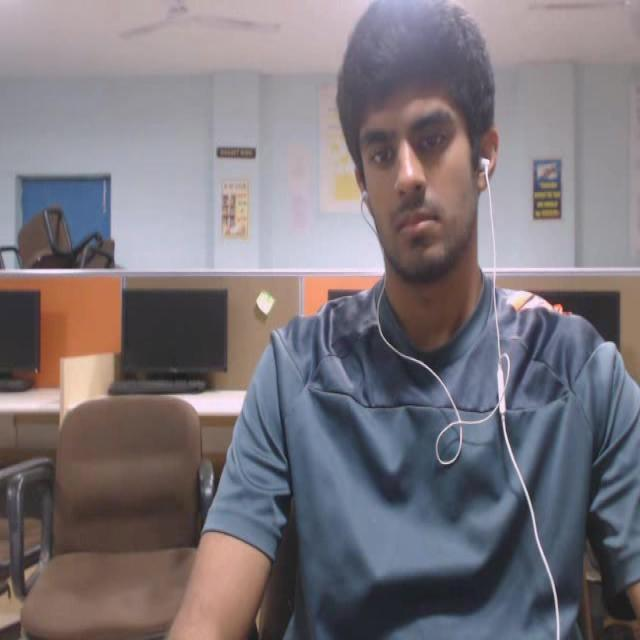Engaged: (299, 0, 539, 305)
